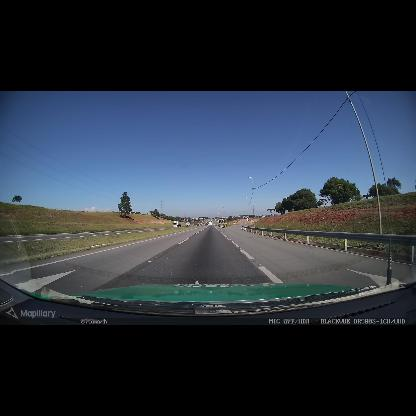O-MP: (226, 221, 228, 226)
R-19: (246, 218, 249, 221)
